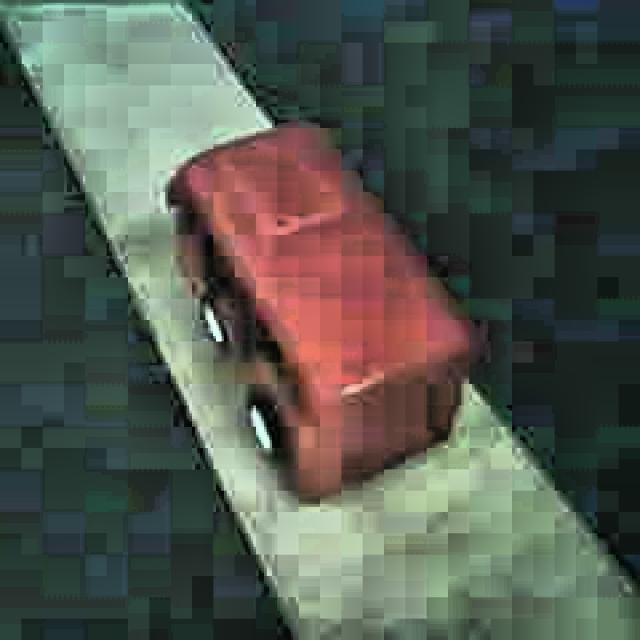bus: (162, 122, 476, 510)
